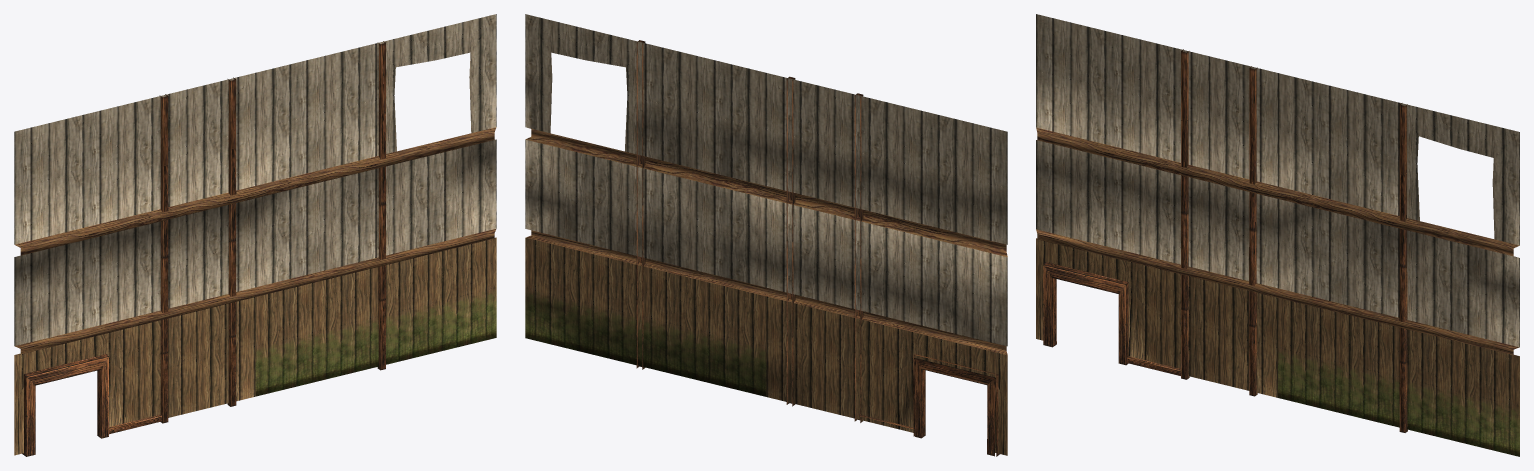
File: LAKETOWN_WAREHOUSE3_PS_WH3_FRONTWALL8847__GX.fbx
3 views of the same model, side by side, from view 1: azimuth 30°, elevation 25°; view 2: azimuth 150°, elevation 25°; view 3: azimuth 330°, elevation 25° (orthographic).
Parts seen in each view (by area): view 1: LAKETOWN_WAREHOUSE3_PS_WH3_FRONTWALL8847__GX; view 2: LAKETOWN_WAREHOUSE3_PS_WH3_FRONTWALL8847__GX; view 3: LAKETOWN_WAREHOUSE3_PS_WH3_FRONTWALL8847__GX.
Boxes of the visible parts, box(x1,y1,x2,y2) form: LAKETOWN_WAREHOUSE3_PS_WH3_FRONTWALL8847__GX: box(14, 14, 496, 456); LAKETOWN_WAREHOUSE3_PS_WH3_FRONTWALL8847__GX: box(525, 14, 1007, 456); LAKETOWN_WAREHOUSE3_PS_WH3_FRONTWALL8847__GX: box(1036, 14, 1519, 456).
Bounding box in the file's own units: 200456 × 129590 × 3243.
Materials: 6 (6 with a texture image).
